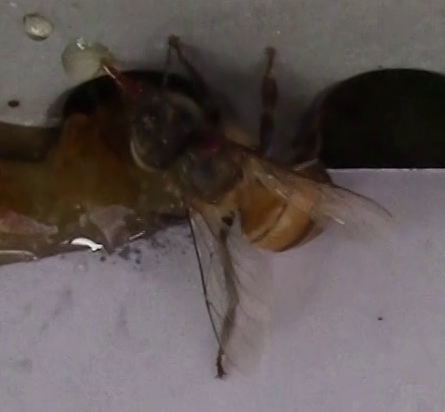Varroa destructor: (191, 129, 227, 158)
